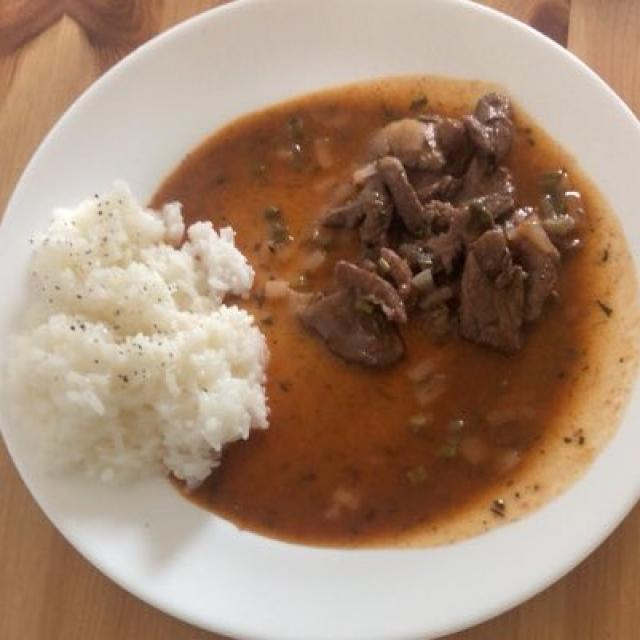rice: (23, 188, 256, 481)
